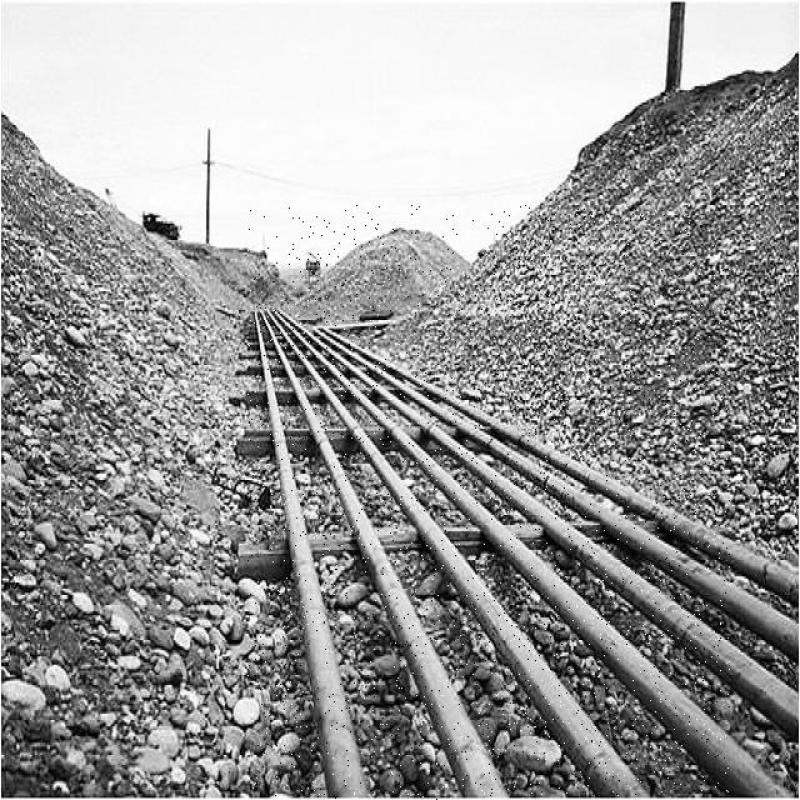Healthy: (281, 339, 579, 596)
